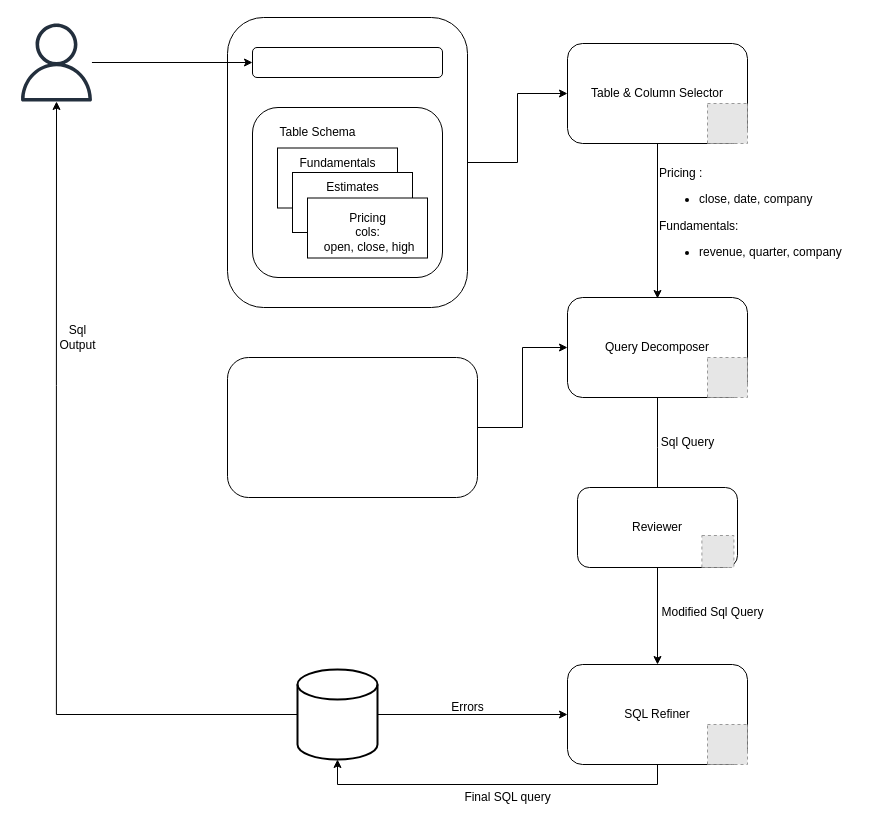
Image size: 884x830. Some labels were removed from this diagram. Grey dashed boxes stand in for pictures. The shapes that lost their labels are listed below. From the top down, each one's centre as x and y in pixels, then its label:
the point at 347,62: What is the current revenue stock price of Microsoft?
the point at 352,427: Few shot demonstrations Query1, SQL1 Query2, SQL2 . .
the point at 337,714: Databse
